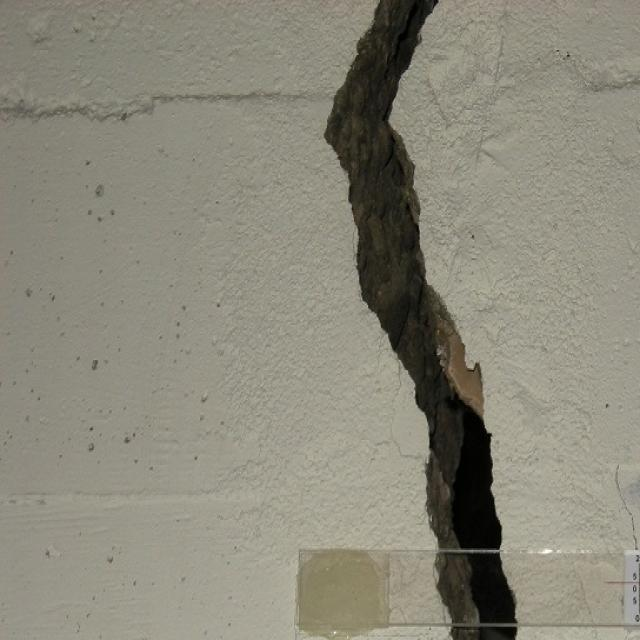Longitudinal: (306, 0, 526, 638)
